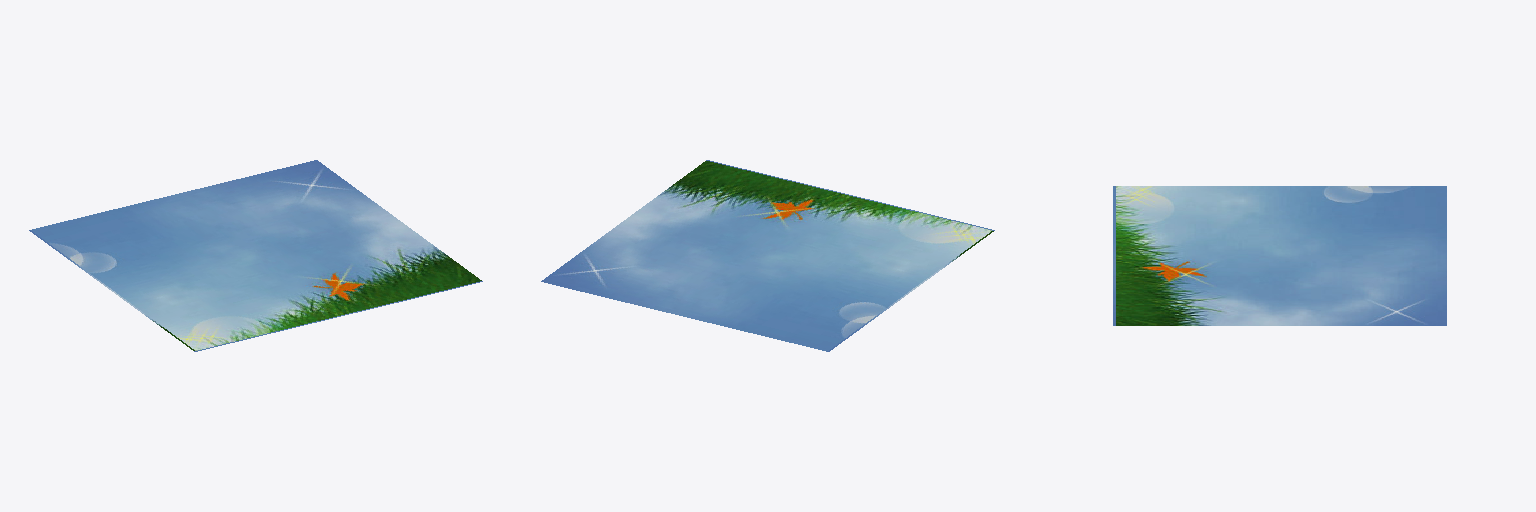
3 views of the same model, side by side, from view 1: azimuth 30°, elevation 25°; view 2: azimuth 150°, elevation 25°; view 3: azimuth 270°, elevation 25° (orthographic).
Visible parts, largest first — view 1: Plane; view 2: Plane; view 3: Plane.
Boxes of the visible parts, box(x1,y1,x2,y2) form: Plane: box(29, 160, 482, 351); Plane: box(541, 160, 994, 351); Plane: box(1113, 186, 1446, 325).
Bounding box in the file's own units: 2 × 0 × 2.
Materials: 1 (1 with a texture image).